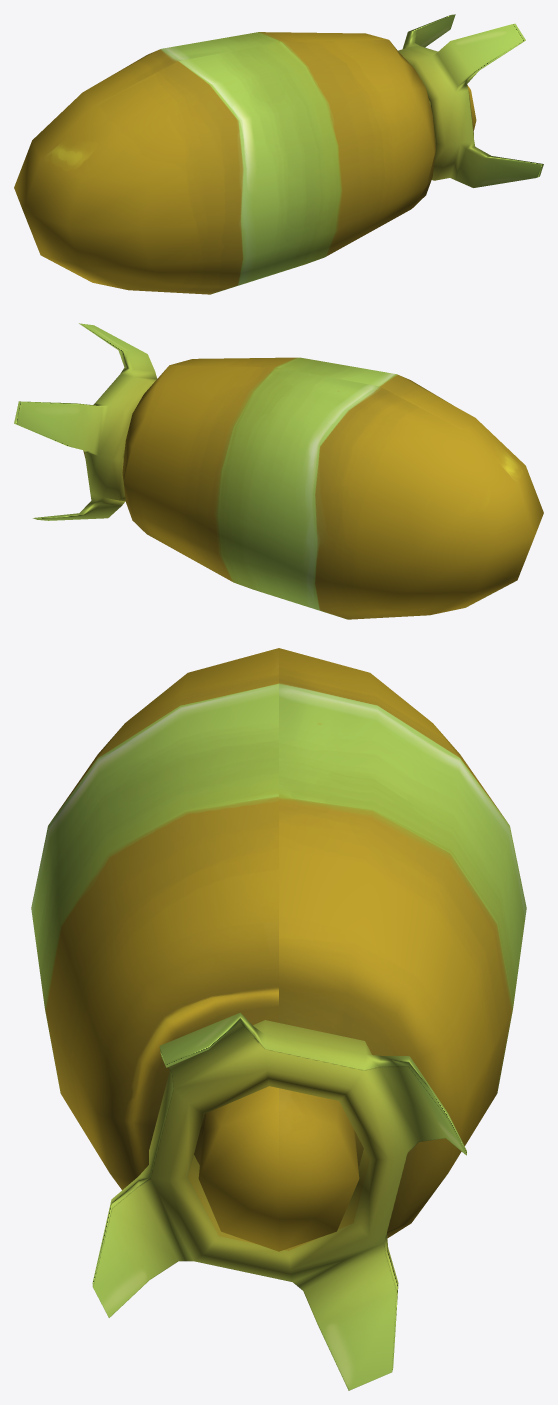
File: BoomBang_Final.fbx
3 renders of one model, top to bottom at view 1: azimuth 30°, elevation 25°; view 2: azimuth 150°, elevation 25°; view 3: azimuth 270°, elevation 25°, orthographic. The views are drawn at different scales.
Visible parts, largest first — view 1: polySurface1, polySurface2; view 2: polySurface1, polySurface2; view 3: polySurface1, polySurface2.
Boxes of the visible parts, bbox=[...] form: polySurface1: bbox=[14, 32, 476, 294]; polySurface2: bbox=[398, 14, 543, 187]; polySurface1: bbox=[83, 357, 543, 619]; polySurface2: bbox=[14, 323, 157, 520]; polySurface1: bbox=[31, 648, 526, 1251]; polySurface2: bbox=[92, 1012, 466, 1390].
Size of the model in its own units: 9.01 by 4.08 by 4.08.
1 material, 1 textured.
